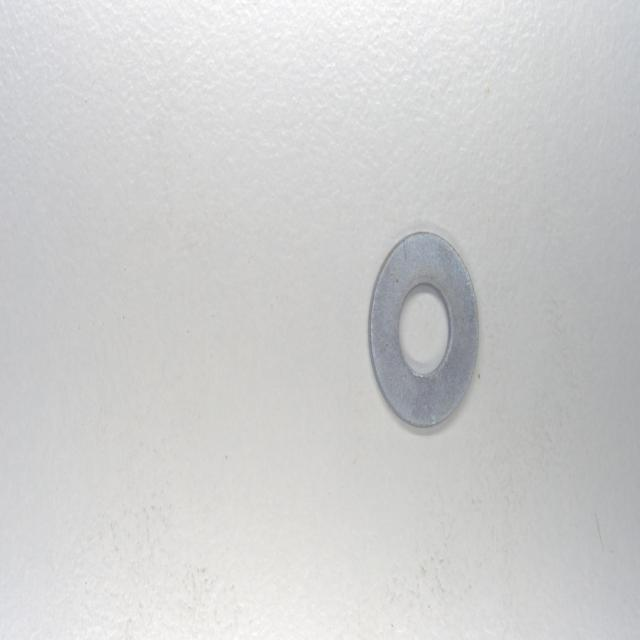washer: (366, 230, 483, 437)
